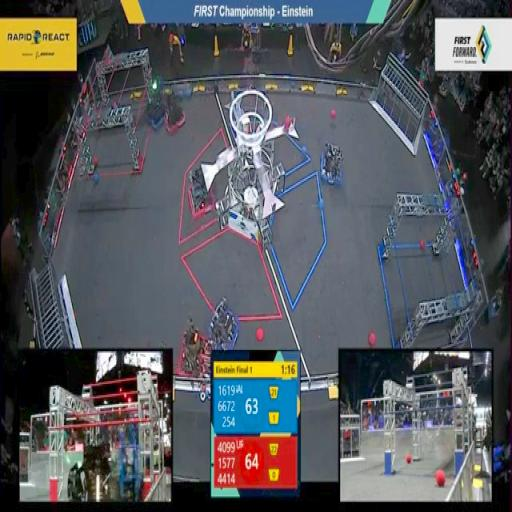robot: (174, 315, 212, 389), (208, 294, 242, 354), (186, 157, 216, 221), (315, 140, 346, 192), (144, 76, 168, 132), (164, 90, 186, 138)
